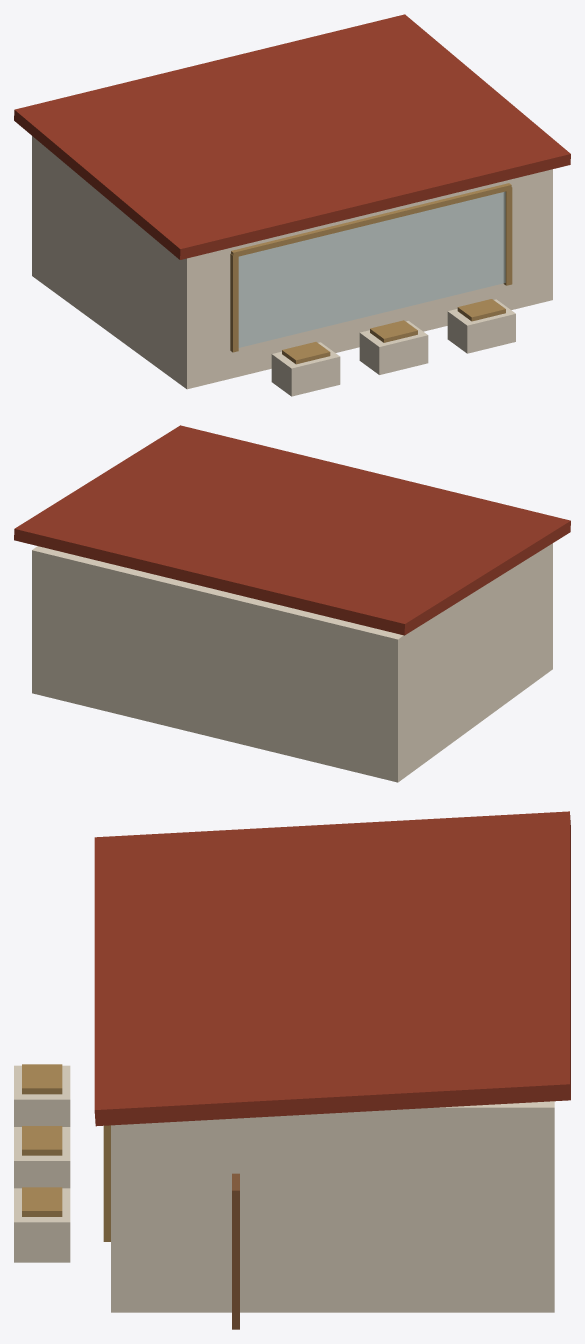
Rendered from studio.glb.
The picture shows the model from 3 angles, top to bottom: view 1: azimuth 30°, elevation 25°; view 2: azimuth 150°, elevation 25°; view 3: azimuth 270°, elevation 25°; orthographic projection. The views are drawn at different scales.
Visible parts, largest first — view 1: StudioProjets; view 2: StudioProjets; view 3: StudioProjets.
Boxes of the visible parts, x1,y1,x2,y2 form: StudioProjets: [14, 14, 570, 396]; StudioProjets: [14, 425, 570, 782]; StudioProjets: [14, 811, 570, 1329].
Bounding box in the file's own units: 8.25 × 3.24 × 6.9.
